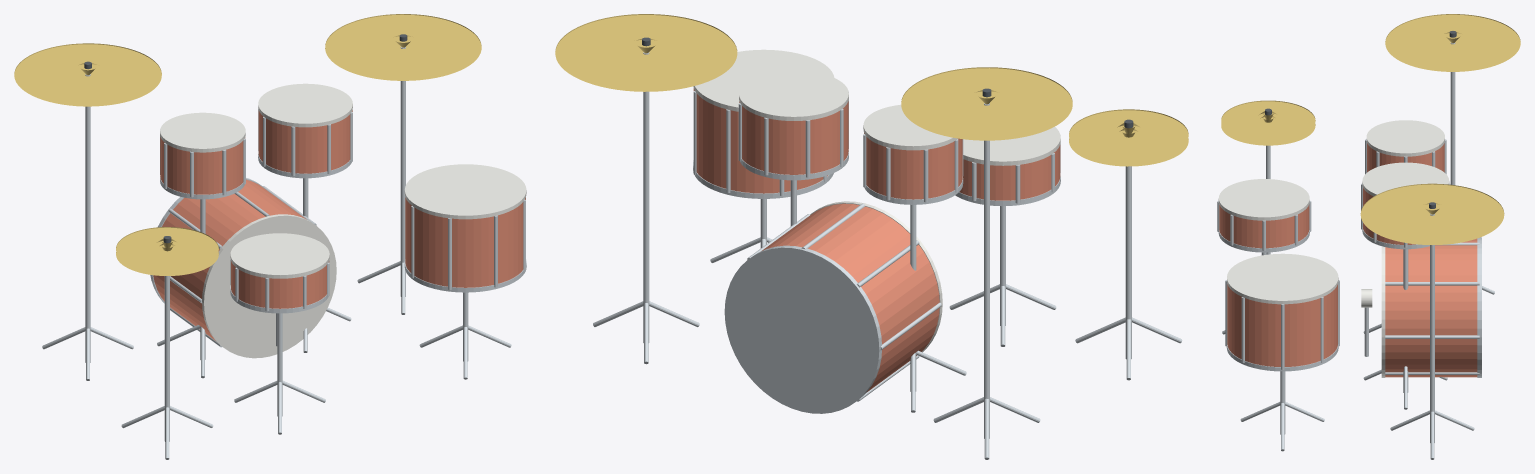
The model's file is joydurm-kit.glb.
The picture shows the model from 3 angles, left to right: view 1: azimuth 30°, elevation 25°; view 2: azimuth 150°, elevation 25°; view 3: azimuth 270°, elevation 25°; orthographic projection. The views are drawn at different scales.
Visible parts, largest first — view 1: ride_surface, kick_head, floor_shell, crash_surface, floor_head, kick_shell, tom2_shell, snare_head, hat_surface, tom2_head, tom1_shell, tom1_head (+7 smaller); view 2: kick_bottom, kick_shell, ride_surface, crash_surface, tom2_shell, hat_surface, tom2_head, tom1_shell, floor_shell, floor_head, snare_shell, tom1_head (+8 smaller); view 3: kick_shell, ride_surface, floor_shell, crash_surface, floor_head, snare_head, hat_surface, tom1_head, snare_shell, tom2_head, tom1_shell, ride_stand (+9 smaller).
Part boxes in pixels (x1=…): ride_surface: x1=325, y1=14, x2=481, y2=80; kick_head: x1=202, y1=214, x2=336, y2=358; floor_shell: x1=405, y1=197, x2=525, y2=287; crash_surface: x1=14, y1=43, x2=161, y2=106; floor_head: x1=404, y1=164, x2=526, y2=219; kick_shell: x1=153, y1=179, x2=306, y2=340; tom2_shell: x1=258, y1=110, x2=352, y2=173; snare_head: x1=230, y1=233, x2=329, y2=278; hat_surface: x1=116, y1=227, x2=218, y2=271; tom2_head: x1=258, y1=83, x2=352, y2=127; tom1_shell: x1=160, y1=137, x2=245, y2=194; tom1_head: x1=160, y1=112, x2=245, y2=152; kick_bottom: x1=724, y1=245, x2=881, y2=413; kick_shell: x1=762, y1=203, x2=939, y2=392; ride_surface: x1=555, y1=14, x2=737, y2=91; crash_surface: x1=901, y1=67, x2=1072, y2=140; tom2_shell: x1=739, y1=101, x2=848, y2=174; hat_surface: x1=1069, y1=109, x2=1188, y2=160; tom2_head: x1=739, y1=70, x2=848, y2=120; tom1_shell: x1=864, y1=133, x2=962, y2=199; floor_shell: x1=693, y1=88, x2=827, y2=193; floor_head: x1=693, y1=49, x2=834, y2=111; snare_shell: x1=959, y1=145, x2=1060, y2=200; tom1_head: x1=863, y1=104, x2=957, y2=150; kick_shell: x1=1385, y1=238, x2=1477, y2=377; ride_surface: x1=1360, y1=183, x2=1504, y2=244; floor_shell: x1=1227, y1=284, x2=1337, y2=366; crash_surface: x1=1385, y1=14, x2=1520, y2=71; floor_head: x1=1227, y1=253, x2=1338, y2=304; snare_head: x1=1218, y1=179, x2=1309, y2=220; hat_surface: x1=1221, y1=100, x2=1315, y2=140; tom1_head: x1=1366, y1=120, x2=1444, y2=156; snare_shell: x1=1219, y1=204, x2=1309, y2=248; tom2_head: x1=1362, y1=162, x2=1449, y2=196; tom1_shell: x1=1367, y1=143, x2=1444, y2=172; ride_stand: x1=1430, y1=214, x2=1434, y2=442.
Bounding box in the file's own units: 2.26 × 1.48 × 1.48.
